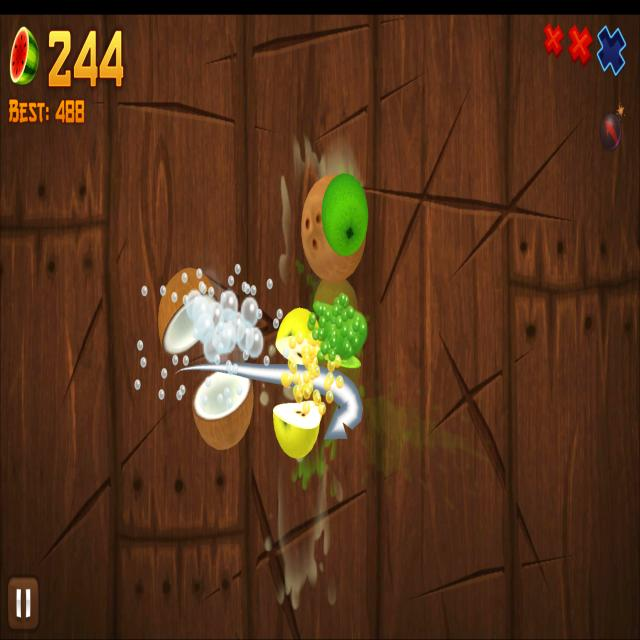fruit: (301, 174, 365, 282), (322, 172, 368, 256)
